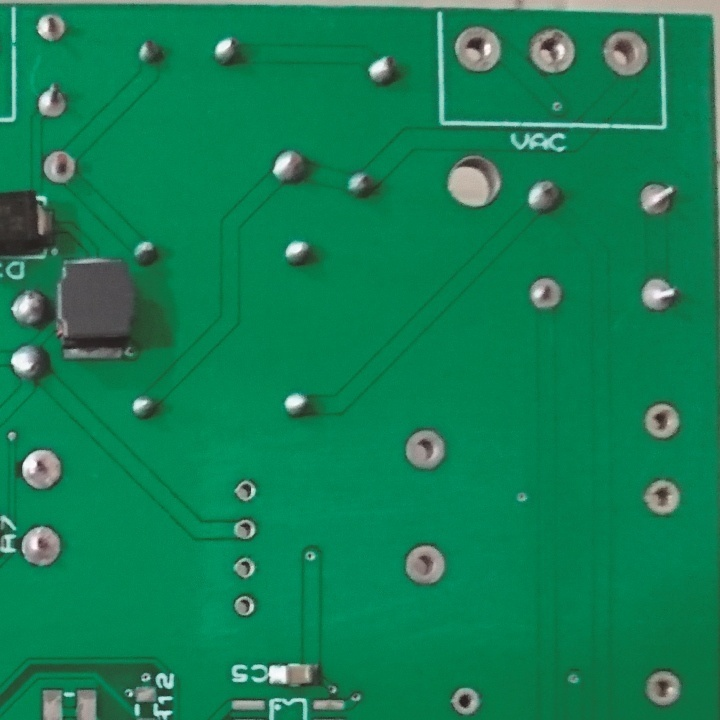F: (525, 23, 580, 79), (452, 23, 505, 79), (599, 28, 654, 79), (402, 541, 450, 588), (18, 447, 67, 493), (401, 427, 450, 472), (17, 524, 64, 569), (642, 664, 687, 709), (641, 400, 683, 443), (637, 179, 679, 222), (639, 271, 679, 315), (641, 477, 683, 516), (33, 81, 73, 121), (525, 275, 568, 312), (40, 148, 81, 186), (448, 684, 485, 715), (33, 12, 68, 43), (233, 515, 260, 544), (231, 555, 260, 582), (231, 593, 259, 620), (232, 478, 260, 504)
